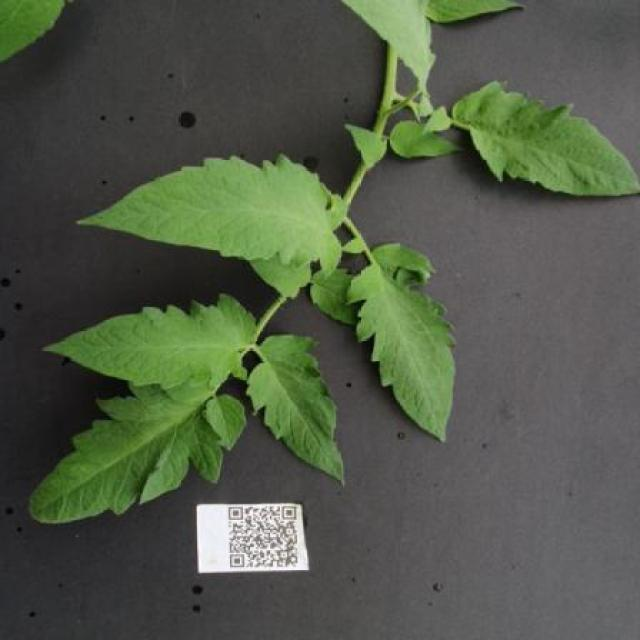Healthy: (71, 144, 342, 279), (27, 384, 224, 526), (447, 79, 640, 200), (344, 242, 459, 444), (43, 290, 260, 390), (245, 334, 345, 489)
